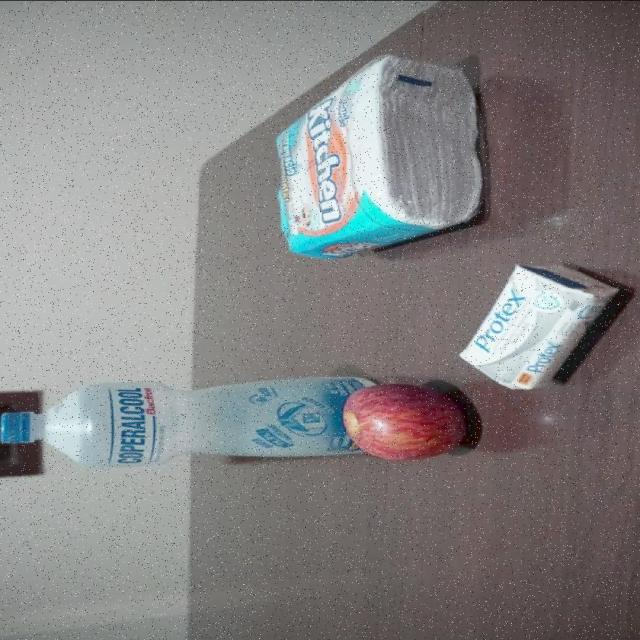AlcoholBottle: (0, 370, 377, 466)
Apple: (348, 384, 456, 466)
Napkin: (272, 54, 480, 262)
Soap: (462, 266, 611, 389)
